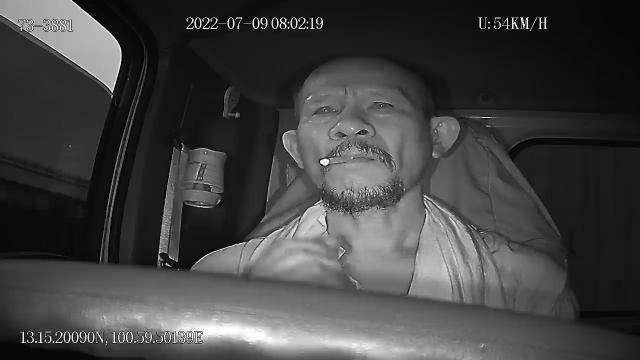SafeDriving: (305, 96, 345, 123), (363, 92, 403, 117)
Smoking: (318, 154, 354, 168)
